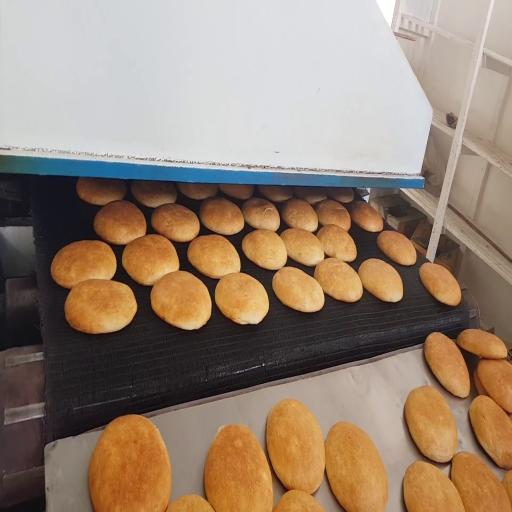bread: (89, 415, 171, 511), (204, 425, 273, 511), (326, 422, 388, 511), (267, 399, 325, 494), (405, 386, 458, 462), (65, 280, 137, 334), (451, 452, 511, 511), (151, 271, 211, 330), (51, 241, 116, 288), (404, 461, 464, 511), (470, 396, 511, 469), (424, 332, 470, 397), (122, 235, 179, 285), (215, 273, 269, 324), (273, 267, 324, 312), (94, 201, 146, 245), (188, 235, 240, 278), (315, 258, 362, 302), (358, 259, 403, 302), (242, 229, 287, 270), (151, 204, 199, 242), (420, 263, 461, 306), (478, 359, 511, 412), (200, 198, 244, 235), (281, 229, 324, 266), (457, 329, 507, 359), (317, 225, 356, 262), (76, 178, 126, 206), (377, 231, 416, 265), (242, 198, 280, 231), (131, 181, 177, 208), (282, 198, 318, 232), (274, 490, 325, 511), (315, 200, 350, 230), (351, 201, 383, 232), (167, 494, 214, 511), (177, 183, 217, 200), (258, 185, 293, 202), (218, 184, 254, 200), (294, 187, 327, 204), (474, 368, 488, 396), (328, 188, 354, 203), (502, 471, 511, 502)
